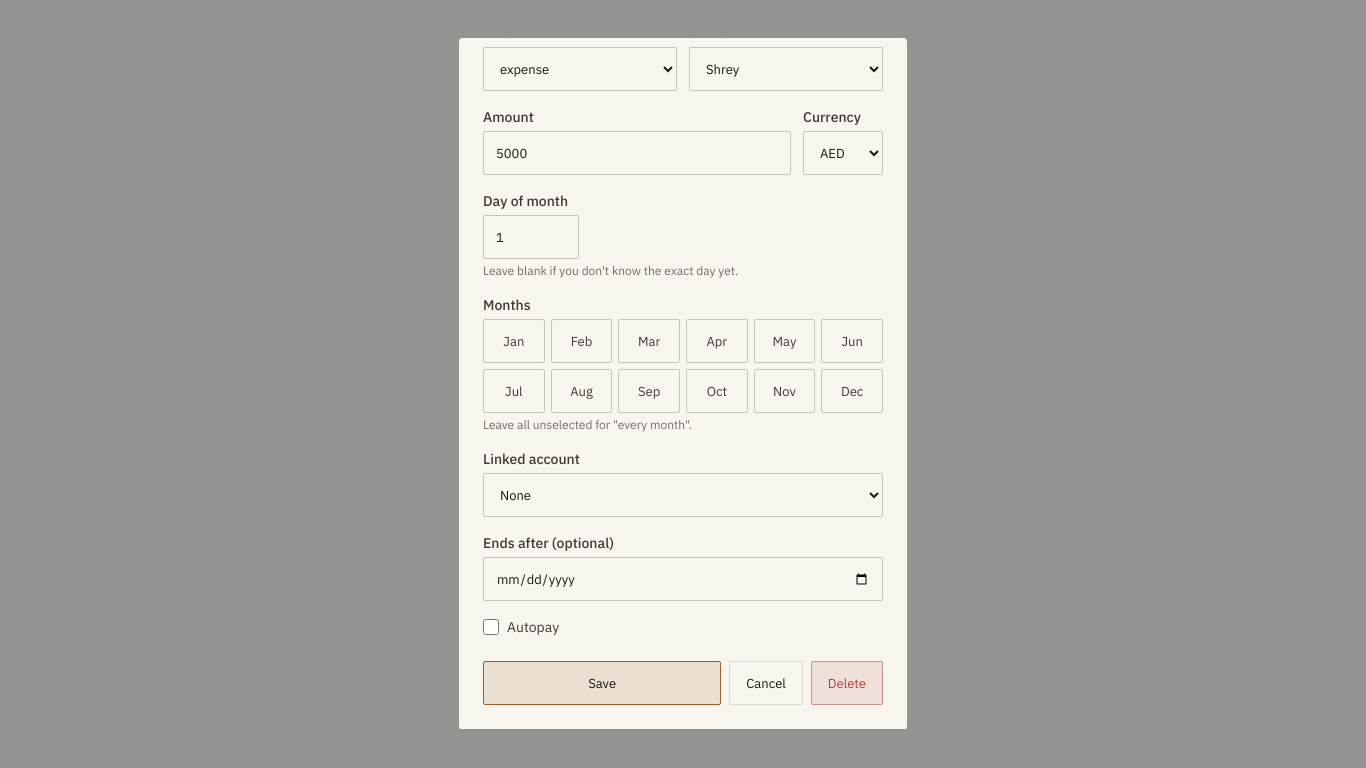
RecurringForm action footer › preserves the rejected-save error and finally restores the Save control
(page scrolled)
Click the button "Save".
click(602, 683)  # box [483, 661, 721, 705]
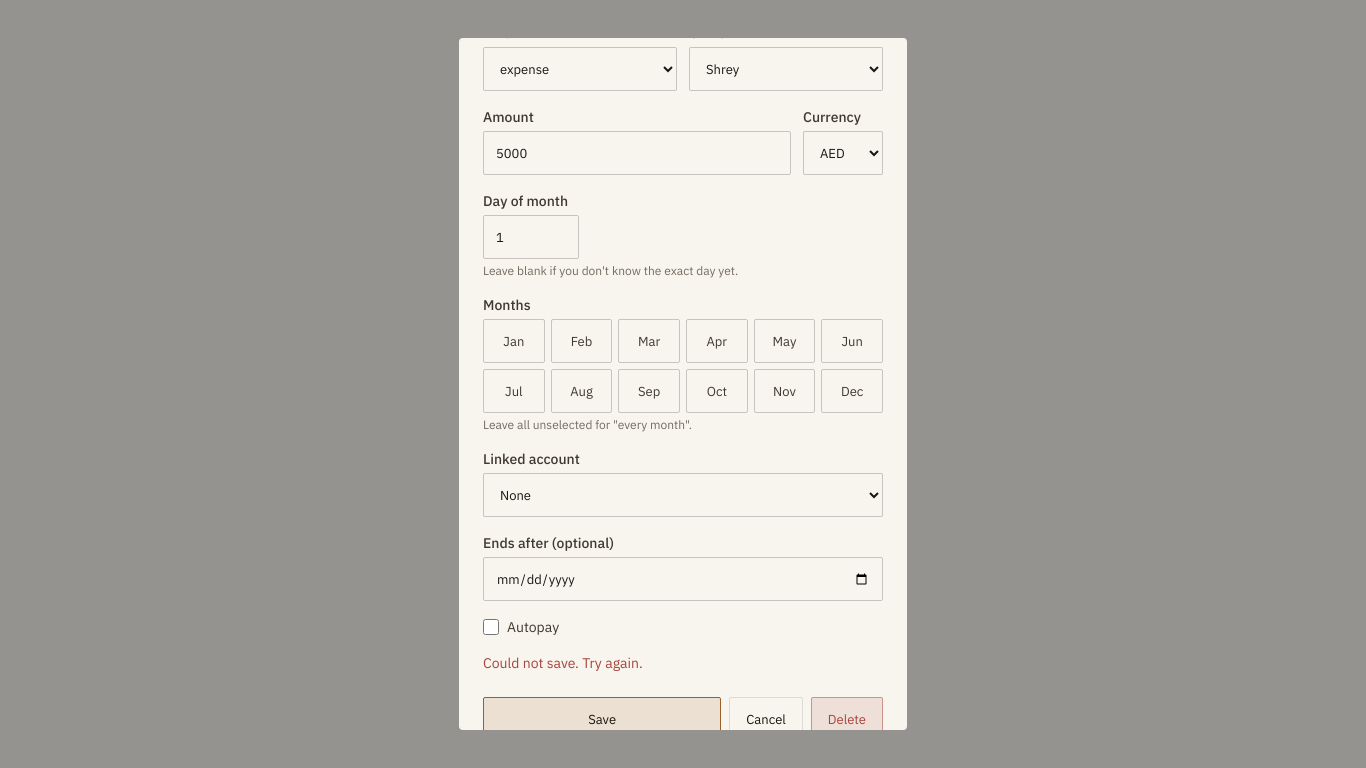
Expected: the button "Save" is enabled, [483, 697, 721, 730]
Expected: the text "Could not save. Try again." is shown, [483, 654, 643, 672]
